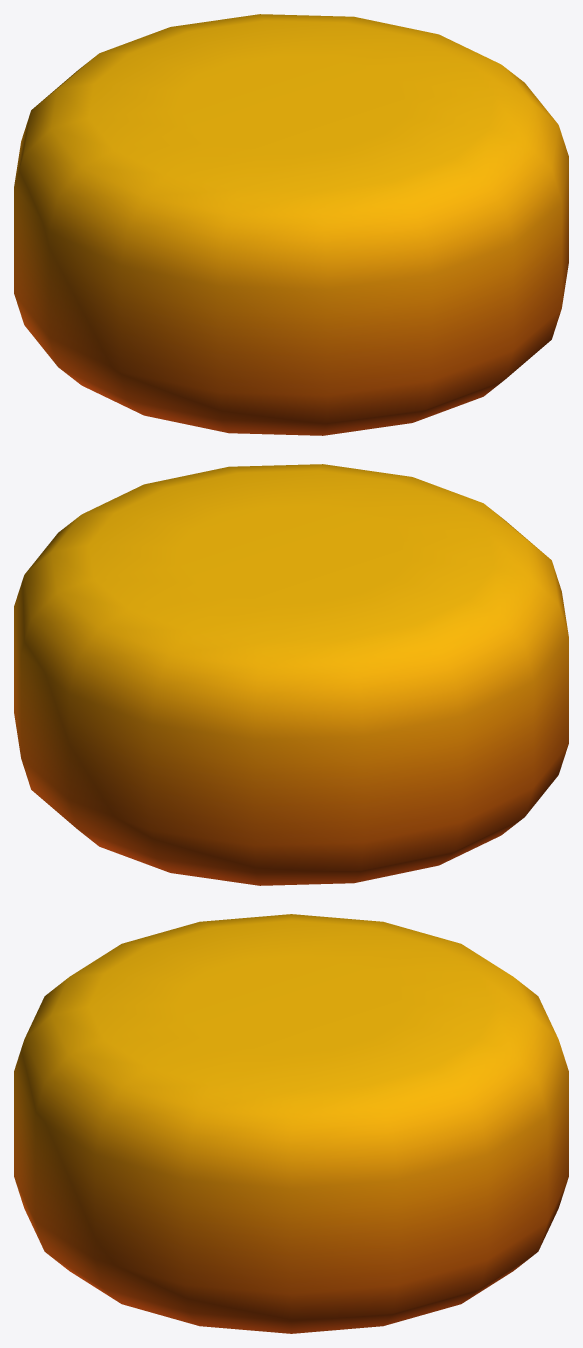
The model's file is Yellow_Cheese_01.glb.
3 renders of one model, top to bottom at view 1: azimuth 30°, elevation 25°; view 2: azimuth 150°, elevation 25°; view 3: azimuth 270°, elevation 25°, orthographic.
Parts seen in each view (by area): view 1: Yellow_Cheese_01; view 2: Yellow_Cheese_01; view 3: Yellow_Cheese_01.
Boxes of the visible parts, x1,y1,x2,y2 form: Yellow_Cheese_01: [14, 14, 568, 435]; Yellow_Cheese_01: [14, 464, 568, 885]; Yellow_Cheese_01: [14, 914, 568, 1333].
Bounding box in the file's own units: 0.6309 × 0.2977 × 0.6309.
Materials: 1 (1 with a texture image).
